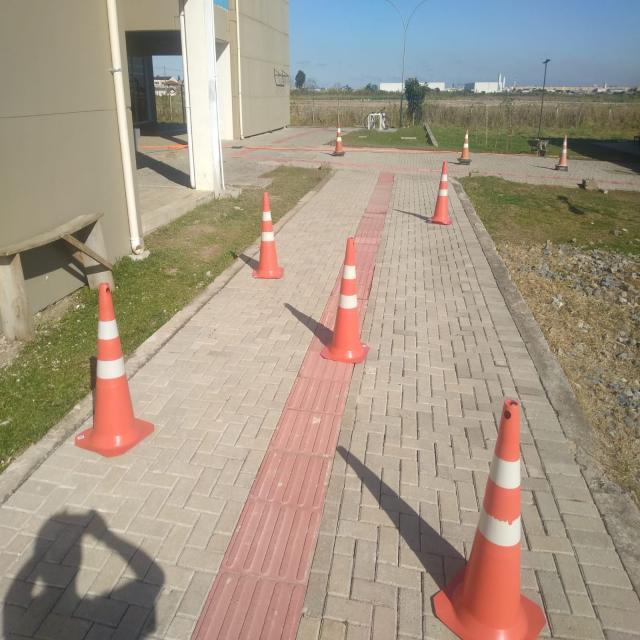cone: (424, 385, 567, 639), (66, 274, 156, 460), (314, 235, 383, 361), (247, 184, 289, 280), (422, 158, 458, 228), (554, 130, 571, 174), (331, 122, 346, 158), (460, 127, 472, 167)
